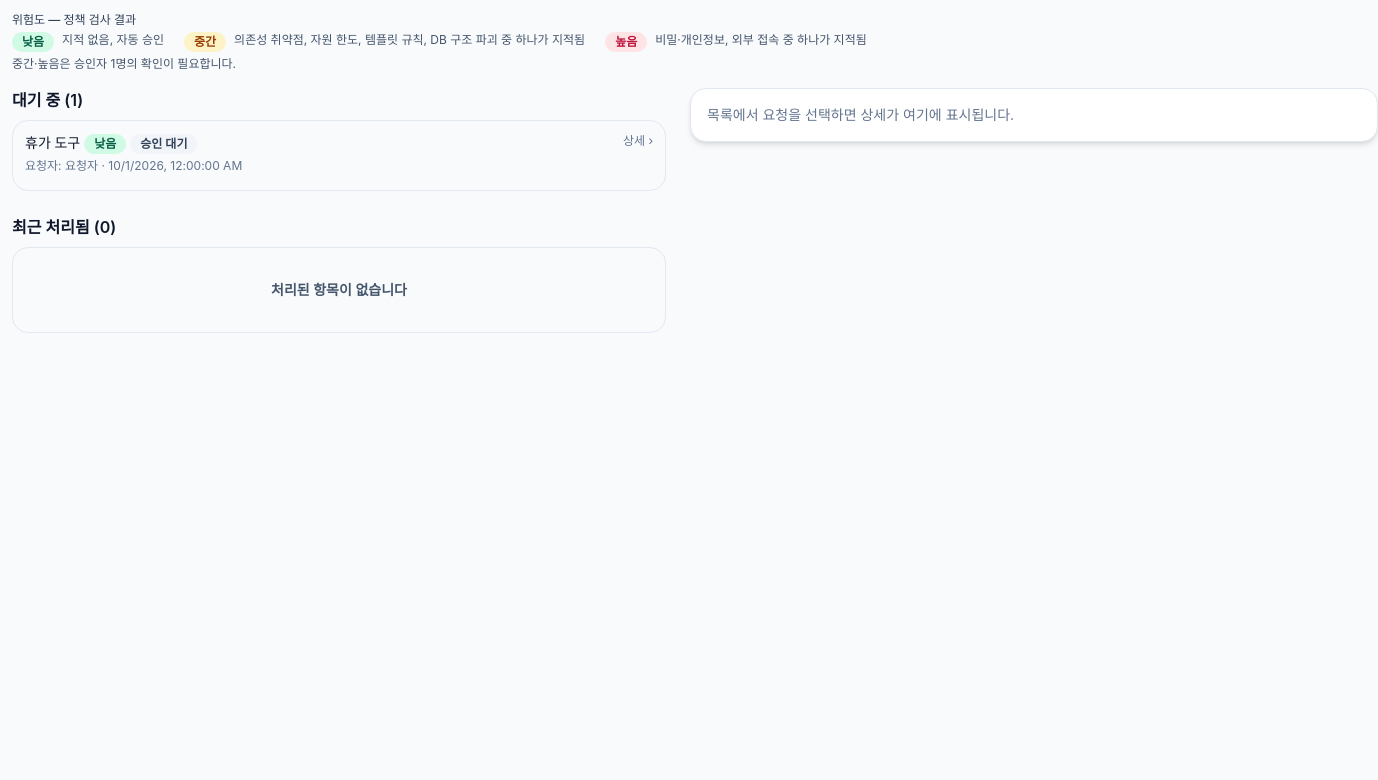
the routes each repair attempt was started for, inside the approval console's detail › with a count of 1 and null routes shows no routes
Click the list item with aria-label "휴가 도구 요청 상세 보기" at [339, 156], box [12, 120, 666, 191]
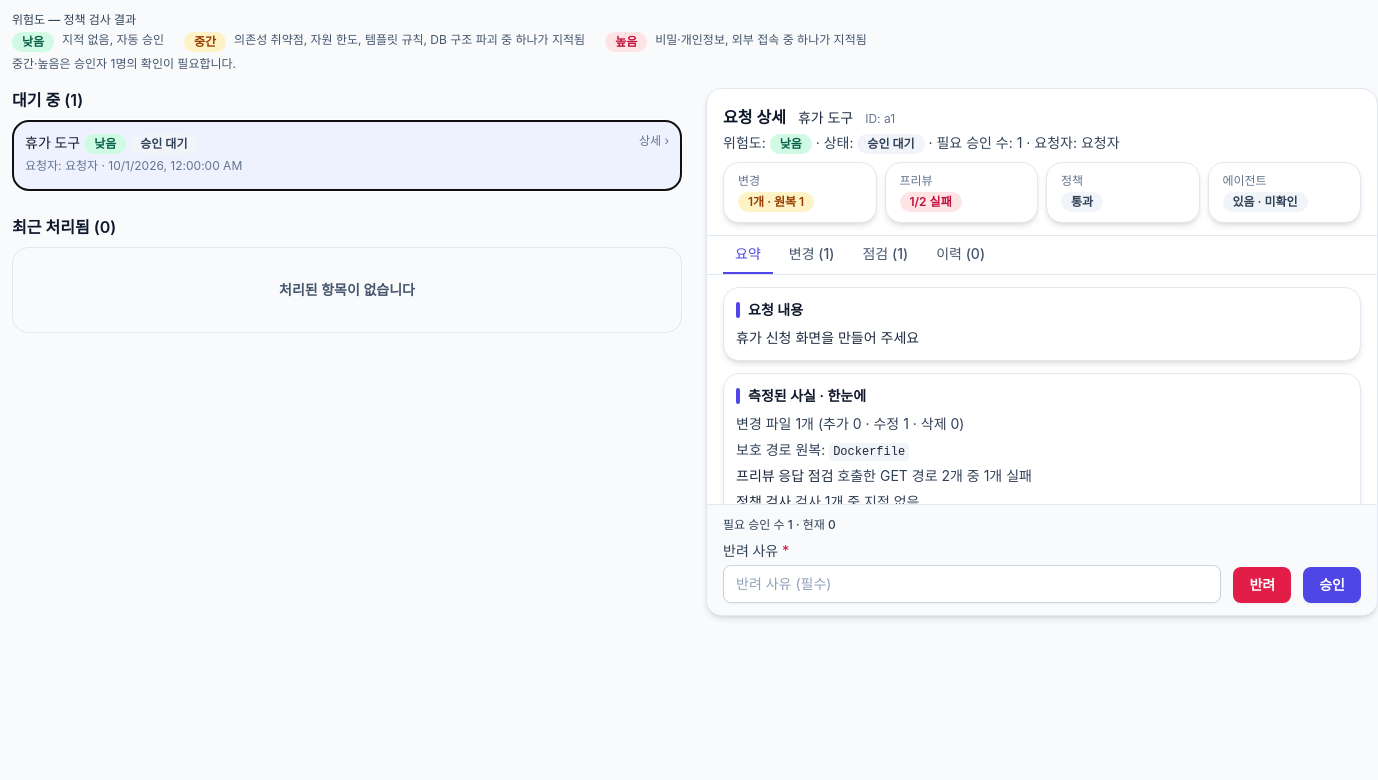
Click the tab "점검 (1)" at [885, 255], box [850, 236, 920, 274]
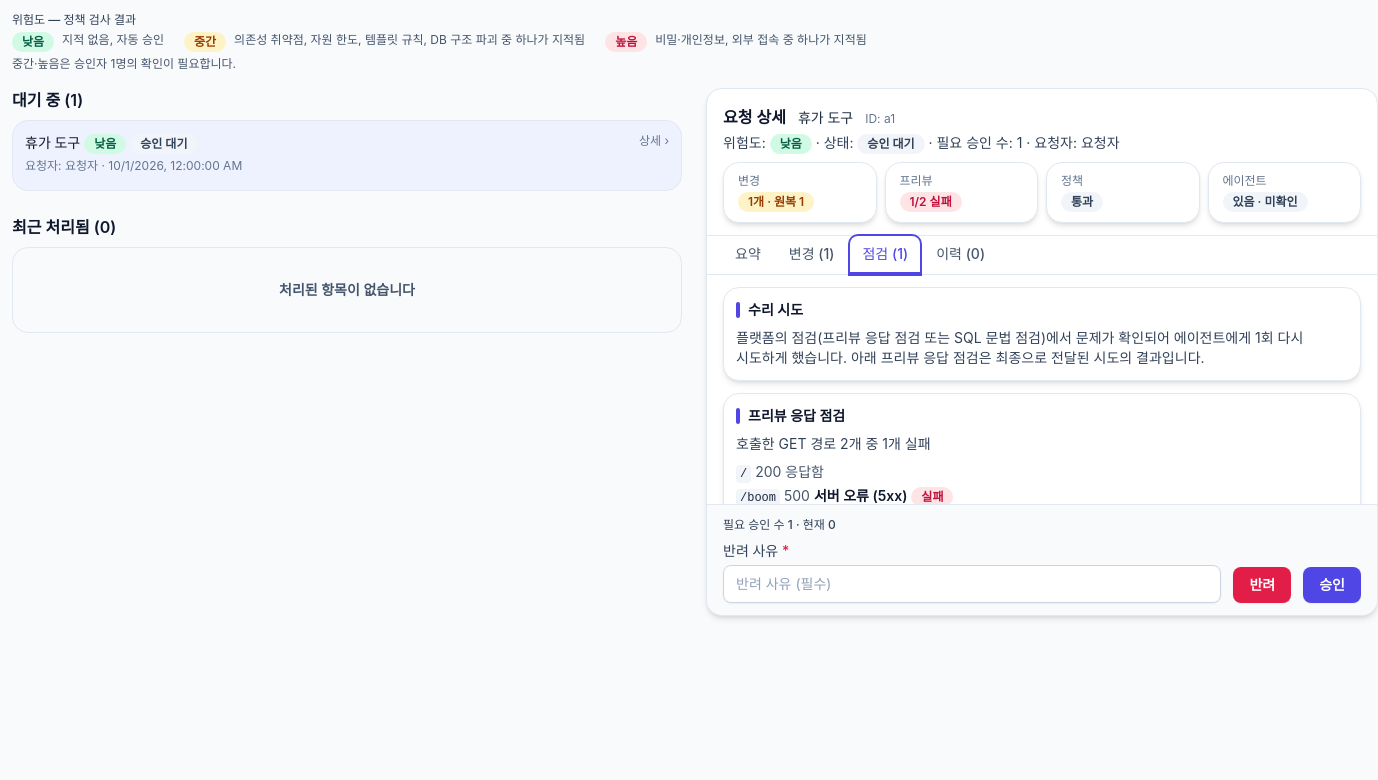
Now the heading "수리 시도" is shown, box [736, 301, 803, 318]
